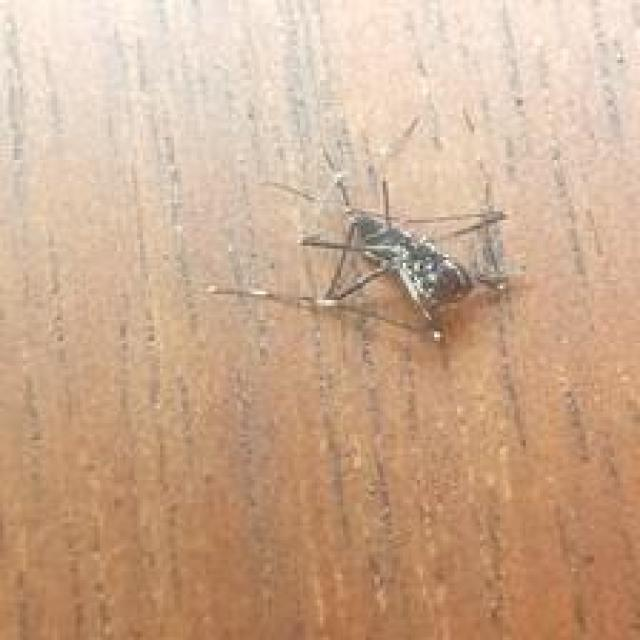Aedes albopictus: (294, 160, 514, 343)
